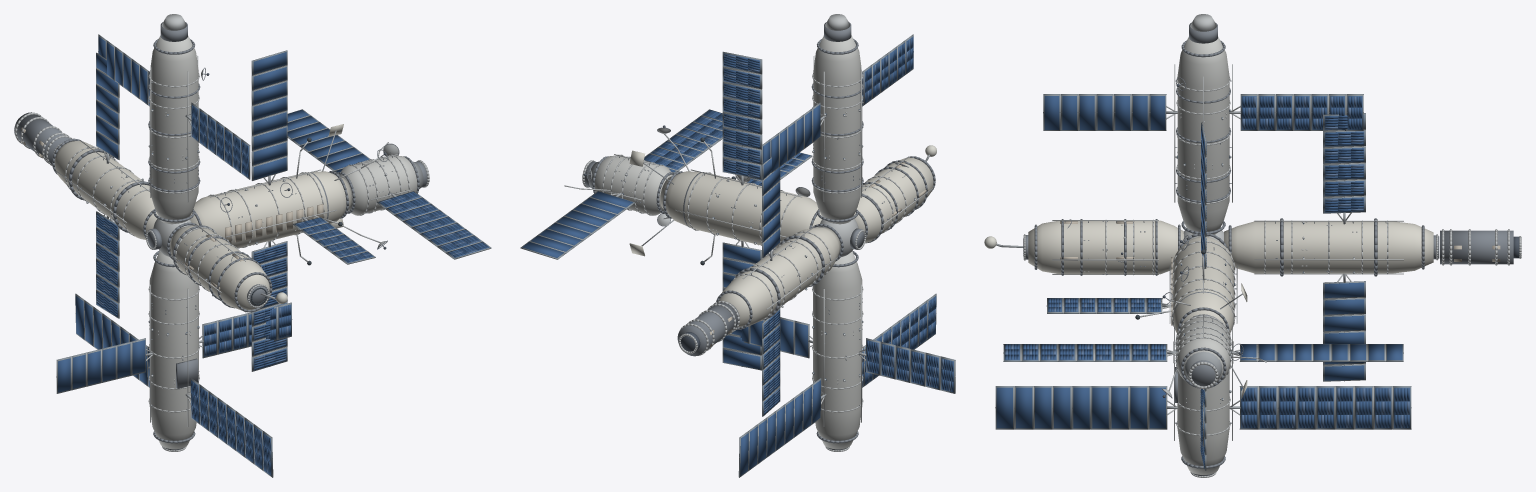
File: mir-user-pack.glb
3 renders of one model, left to right at view 1: azimuth 30°, elevation 25°; view 2: azimuth 150°, elevation 25°; view 3: azimuth 270°, elevation 25°, orthographic. The views are drawn at different scales.
Parts seen in each view (by area): view 1: SPEKTR_1995__solar, KVANT_2_1989__ceramic, SPEKTR_1995__ceramic, MIR_CORE_1986__solar, MIR_CORE_1986__ceramic_light, KRISTALL_1990__ceramic_light, KVANT_1_1987__solar, PRIRODA_1996__ceramic_light, SPEKTR_1995__solar_frame, KRISTALL_1990__solar, KVANT_2_1989__solar, MIR_CORE_1986__solar_frame (+24 smaller); view 2: SPEKTR_1995__ceramic, KVANT_2_1989__ceramic, SPEKTR_1995__solar, MIR_CORE_1986__ceramic_light, MIR_CORE_1986__solar, KRISTALL_1990__ceramic_light, KVANT_1_1987__solar, PRIRODA_1996__ceramic_light, SPEKTR_1995__solar_frame, KVANT_2_1989__solar, KVANT_1_1987__ceramic, KRISTALL_1990__solar (+22 smaller); view 3: SPEKTR_1995__solar, KRISTALL_1990__ceramic_light, KVANT_2_1989__ceramic, PRIRODA_1996__ceramic_light, KVANT_2_1989__solar, KRISTALL_1990__solar, KVANT_1_1987__solar, MIR_CORE_1986__ceramic_light, SPEKTR_1995__solar_frame, SPEKTR_1995__ceramic, SPEKTR_1995__solar_mid, KVANT_2_1989__solar_frame (+23 smaller).
Boxes of the visible parts, <box> form: SPEKTR_1995__solar: <box>58,296,290,475</box>; KVANT_2_1989__ceramic: <box>149,35,198,224</box>; SPEKTR_1995__ceramic: <box>149,251,198,449</box>; MIR_CORE_1986__solar: <box>253,52,372,369</box>; MIR_CORE_1986__ceramic_light: <box>190,171,351,248</box>; KRISTALL_1990__ceramic_light: <box>54,141,158,239</box>; KVANT_1_1987__solar: <box>287,110,488,257</box>; PRIRODA_1996__ceramic_light: <box>170,225,269,310</box>; SPEKTR_1995__solar_frame: <box>56,293,291,477</box>; KRISTALL_1990__solar: <box>96,54,117,316</box>; KVANT_2_1989__solar: <box>98,36,248,176</box>; MIR_CORE_1986__solar_frame: <box>251,50,375,371</box>; SPEKTR_1995__ceramic: <box>813,251,862,449</box>; KVANT_2_1989__ceramic: <box>813,35,862,224</box>; SPEKTR_1995__solar: <box>740,296,953,475</box>; MIR_CORE_1986__ceramic_light: <box>660,171,821,248</box>; MIR_CORE_1986__solar: <box>723,56,809,369</box>; KRISTALL_1990__ceramic_light: <box>719,227,840,327</box>; KVANT_1_1987__solar: <box>522,110,722,257</box>; PRIRODA_1996__ceramic_light: <box>854,157,933,242</box>; SPEKTR_1995__solar_frame: <box>738,293,955,477</box>; KVANT_2_1989__solar: <box>763,37,913,171</box>; KVANT_1_1987__ceramic: <box>594,155,672,215</box>; KRISTALL_1990__solar: <box>763,158,779,414</box>; SPEKTR_1995__solar: <box>996,387,1409,443</box>; KRISTALL_1990__ceramic_light: <box>1224,221,1433,273</box>; KVANT_2_1989__ceramic: <box>1177,36,1229,236</box>; PRIRODA_1996__ceramic_light: <box>1028,220,1183,274</box>; KVANT_2_1989__solar: <box>1044,96,1361,129</box>; KRISTALL_1990__solar: <box>1324,116,1364,380</box>; KVANT_1_1987__solar: <box>1005,344,1402,360</box>; MIR_CORE_1986__ceramic_light: <box>1173,236,1234,333</box>; SPEKTR_1995__solar_frame: <box>995,386,1411,446</box>; SPEKTR_1995__ceramic: <box>1177,371,1229,474</box>; SPEKTR_1995__solar_mid: <box>1202,387,1410,444</box>; KVANT_2_1989__solar_frame: <box>1043,94,1363,130</box>.
Size of the model in its own units: 28.65 by 32.1 by 34.32.
